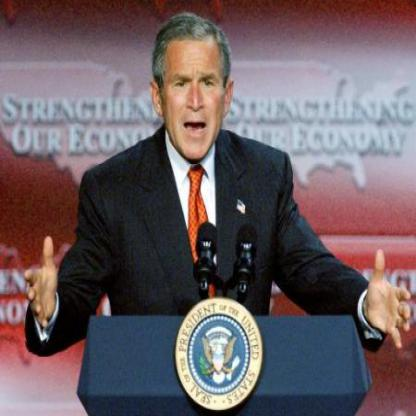face: (162, 17, 226, 162)
